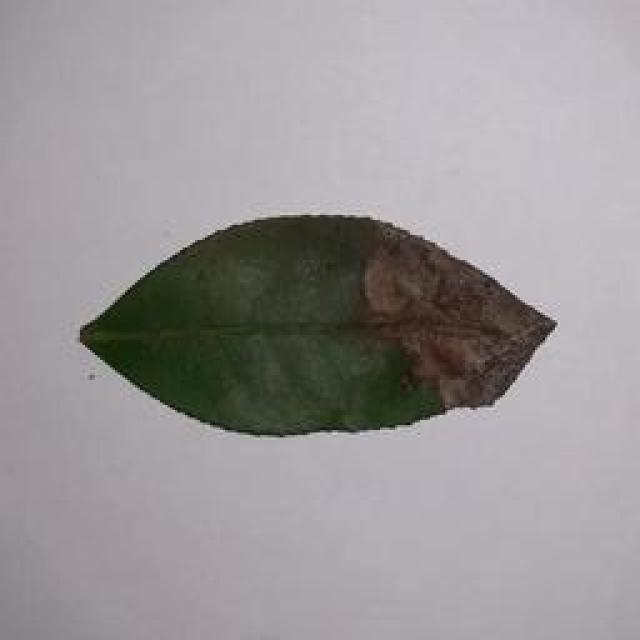Brown Blight: (79, 197, 576, 446)
